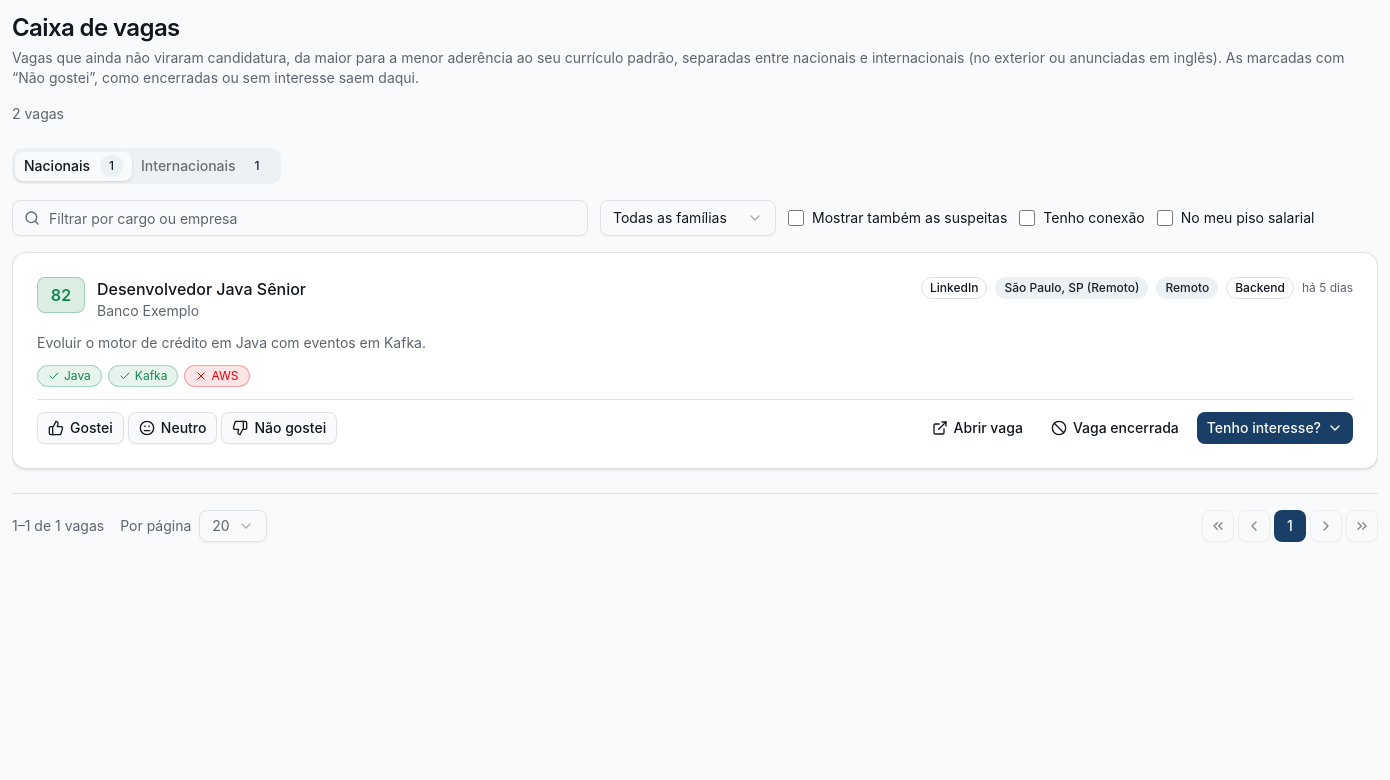
Test: InboxPage › "Não tenho interesse" tira a vaga da caixa e deixa desfazer
The width and height of the screenshot is (1390, 780).
Click the button "Tenho interesse?": (1275, 428) [1197,412,1353,444]
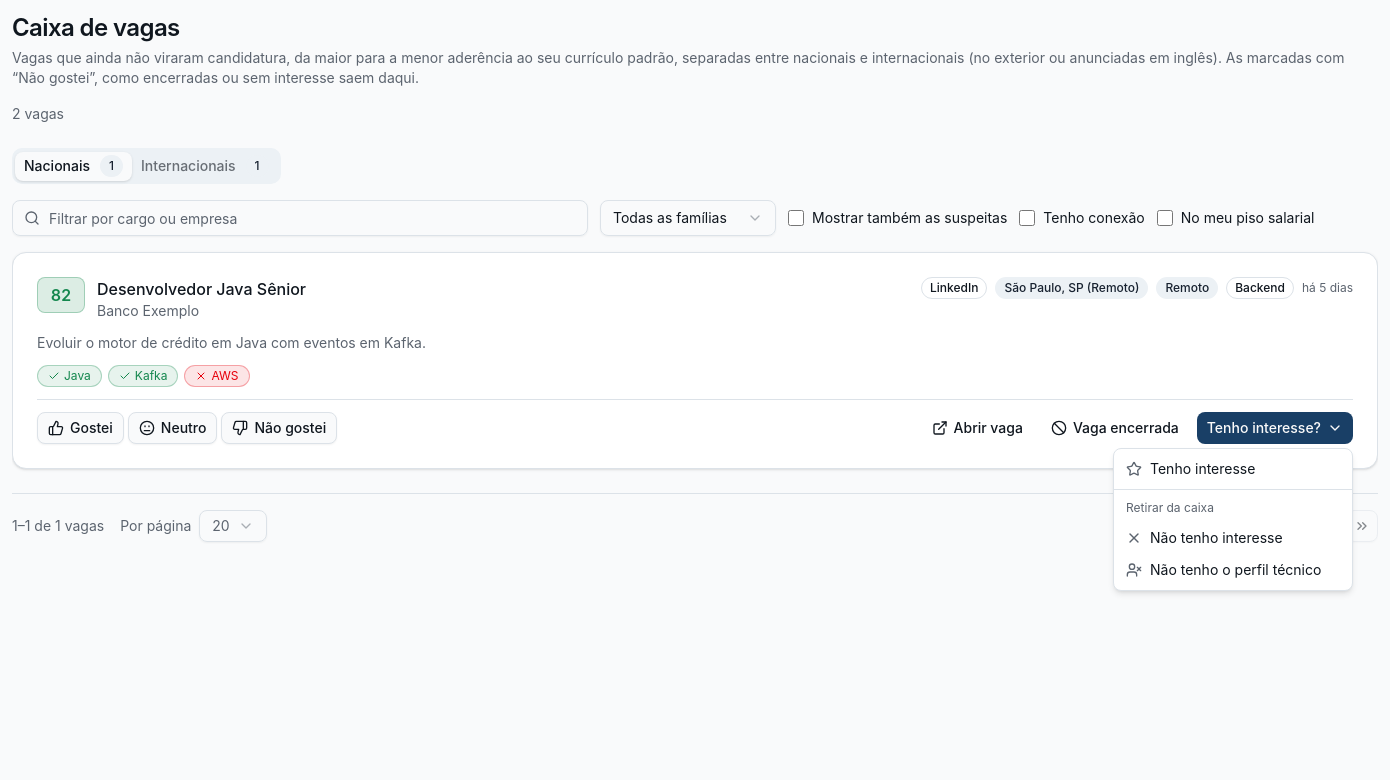
Click the menu item "Não tenho interesse": (1204, 538) [1126,529,1283,546]
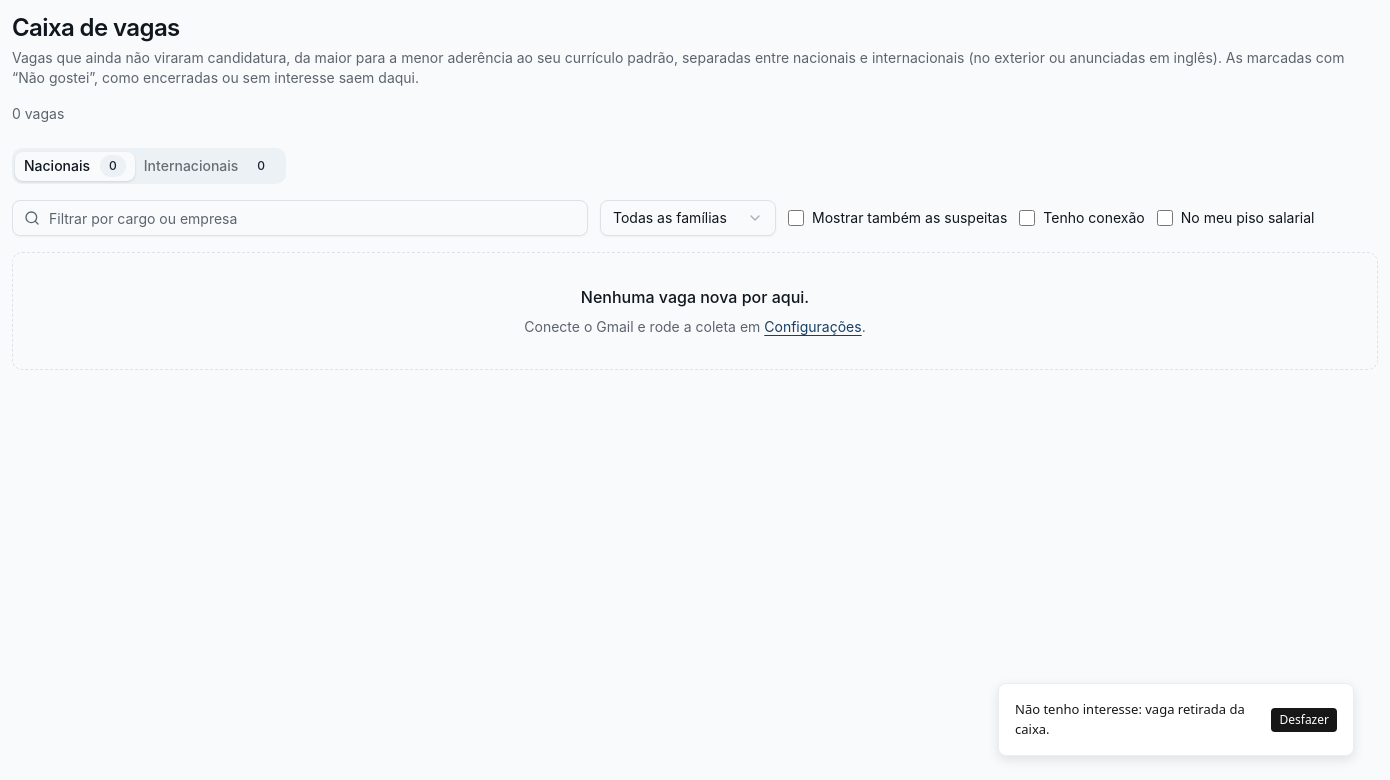
Expected: the link "Desenvolvedor Java Sênior" is gone
Click the button "Desfazer": (1304, 720) [1272,708,1337,732]
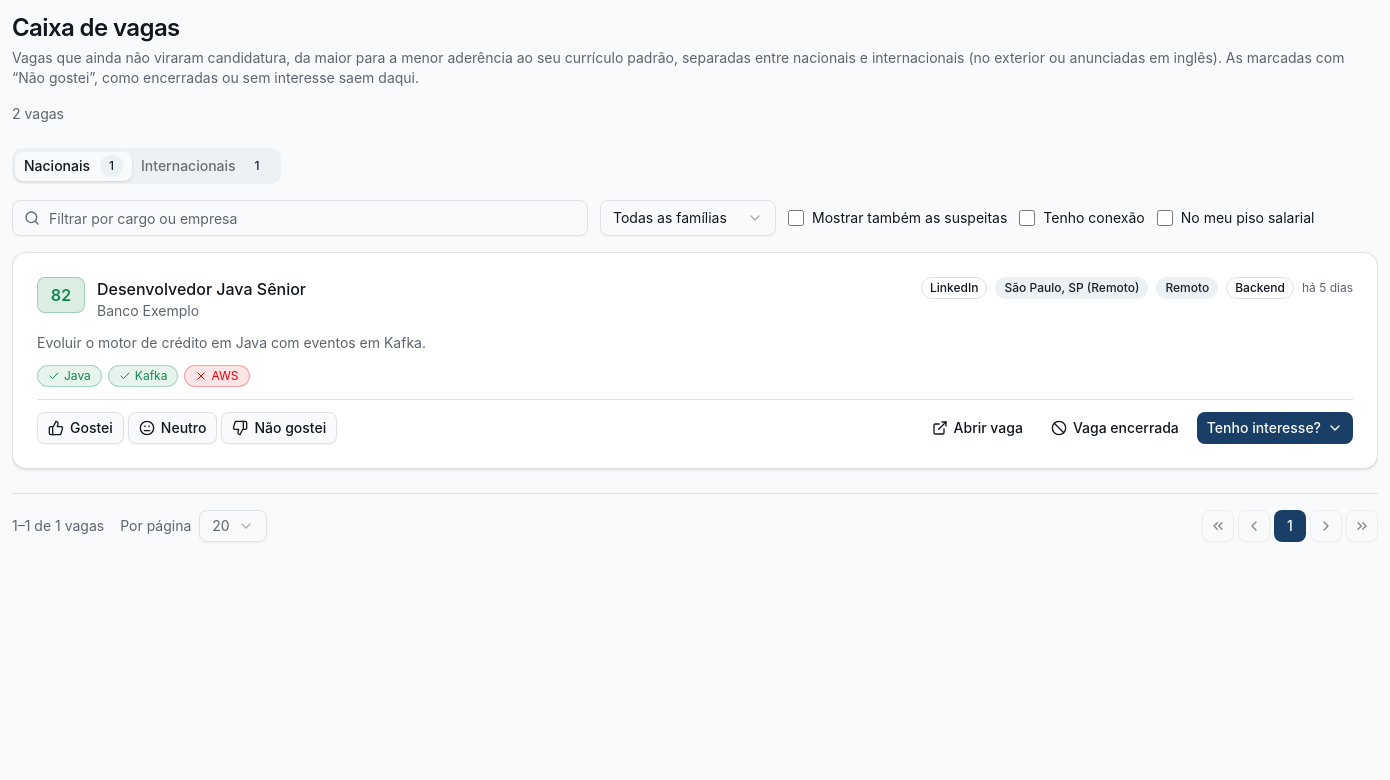
Expected: the link "Desenvolvedor Java Sênior" is shown, [97,279,306,299]
